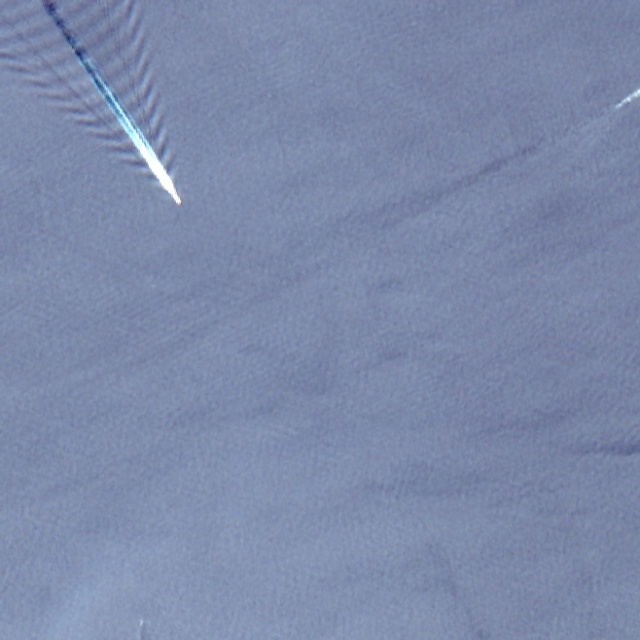wake: (46, 30, 225, 236)
